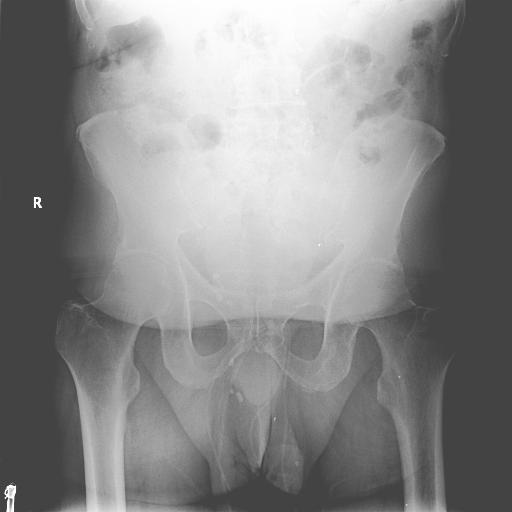normal: (56, 254, 174, 478), (341, 266, 454, 484)
